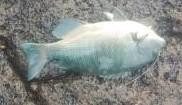fish: (21, 19, 166, 81)
